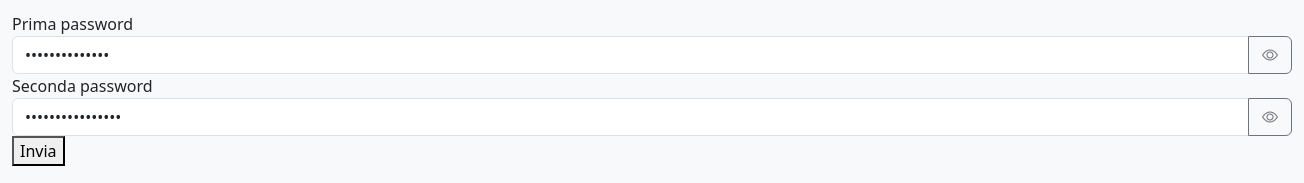
Test: PasswordInput › reveals only its own value, preserves focus, and never submits the form
Click the 1st button named "Mostra password": (1270, 55) [1248,36,1292,74]
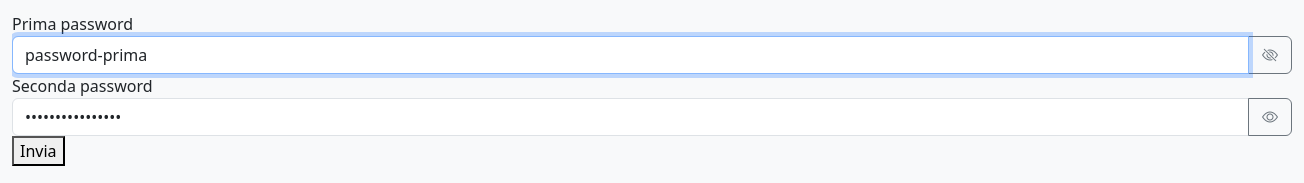
Expected: the field labelled "Prima password" holds "password-prima", [12,36,1249,74]
Result: the field labelled "Prima password" shows its text at [12,36,1249,74]
Click the button named "Nascondi password": (1270, 55) [1248,36,1292,74]
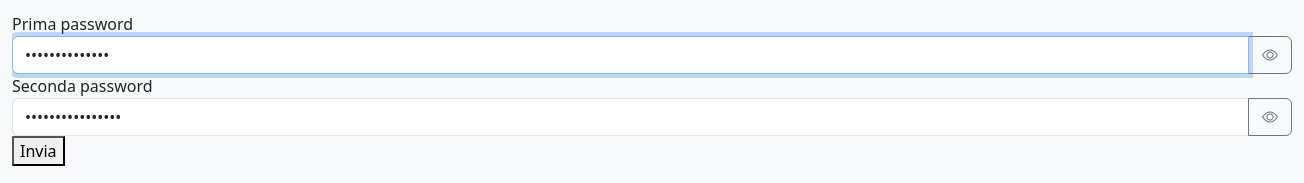
Result: the password field labelled "Prima password" hides its text at [12,36,1249,74]
